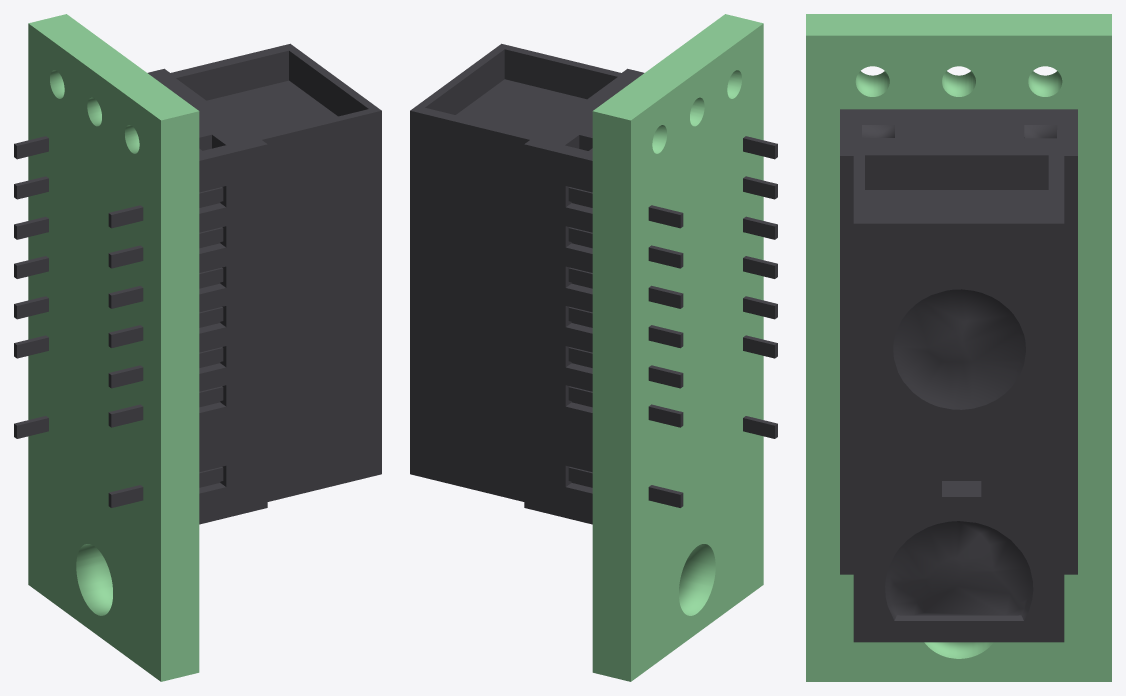
The model's file is infrared.dae.
3 renders of one model, left to right at view 1: azimuth 30°, elevation 25°; view 2: azimuth 150°, elevation 25°; view 3: azimuth 270°, elevation 25°, orthographic. The views are drawn at different scales.
Parts seen in each view (by area): view 1: Saliente-Extruir1, Boss-Extrude4; view 2: Saliente-Extruir1, Boss-Extrude4; view 3: Boss-Extrude4, Saliente-Extruir1.
Part boxes in pixels (left/top/right/bottom): Saliente-Extruir1: left=28, top=14, right=199, bottom=681; Boss-Extrude4: left=14, top=43, right=381, bottom=524; Saliente-Extruir1: left=592, top=14, right=763, bottom=681; Boss-Extrude4: left=410, top=43, right=777, bottom=524; Boss-Extrude4: left=840, top=109, right=1077, bottom=642; Saliente-Extruir1: left=806, top=14, right=1111, bottom=681.
Size of the model in its own units: 0.0108 by 0.009 by 0.021.
